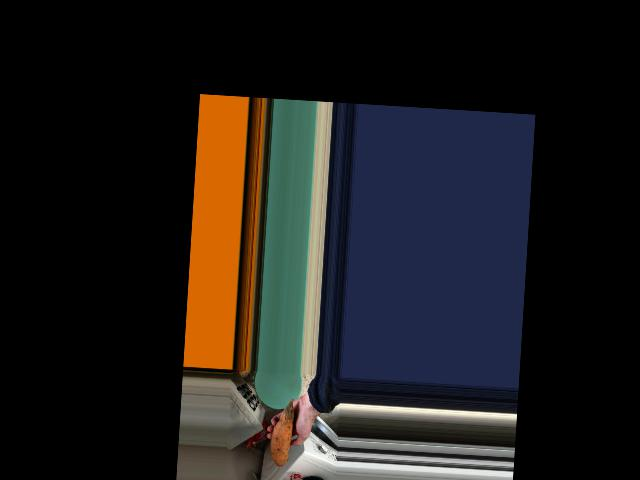sweet_potato: (269, 405, 296, 460)
